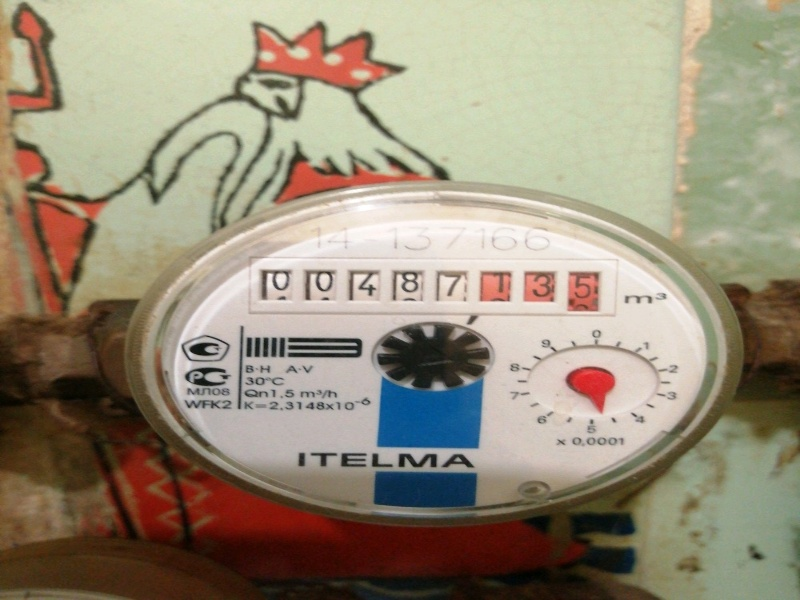meter: (253, 253, 616, 319)
